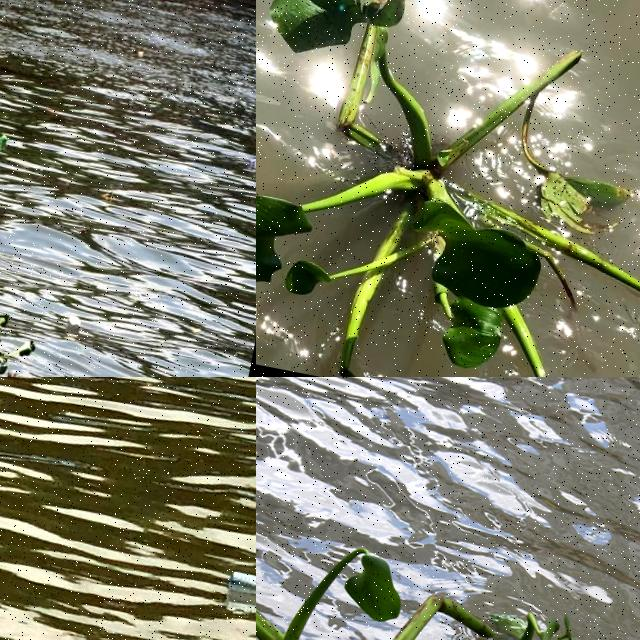water-hyacinth: (257, 1, 640, 378), (257, 524, 640, 640), (1, 313, 36, 378)
